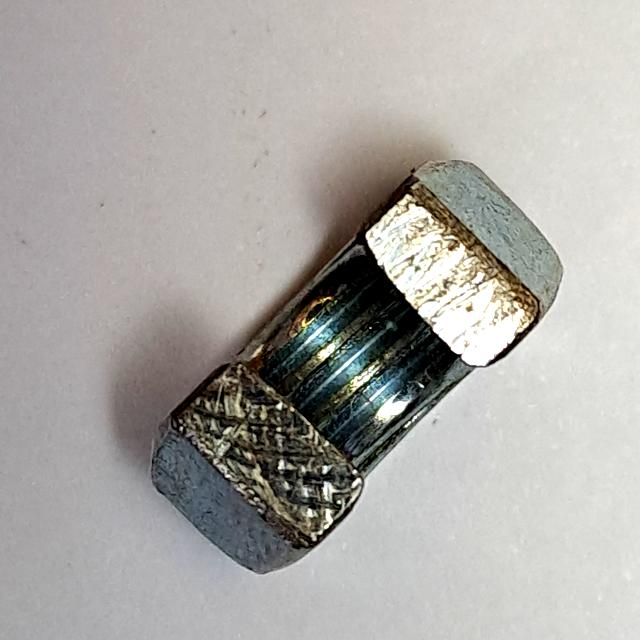Side-Fracture: (136, 149, 572, 586)
